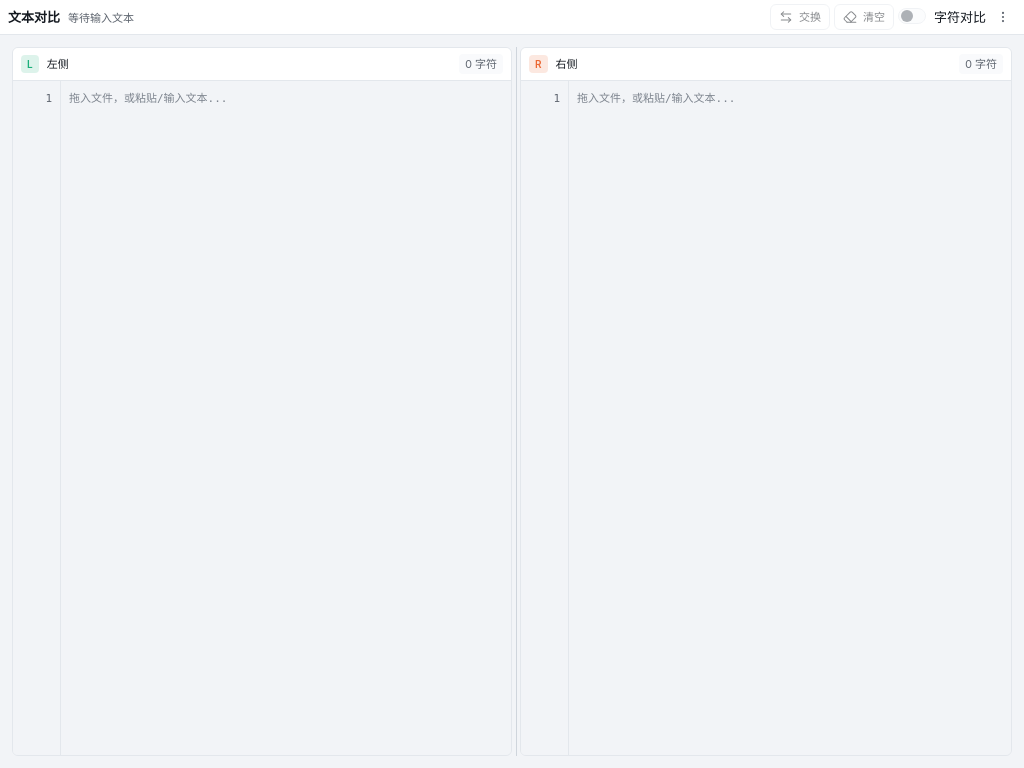
TextComparePage 工具栏（§4.5） › 标题恒在，高频三件套留在栏上，其余降到 ⋯
The image size is (1024, 768).
expect the heading "文本对比" is shown: met, box [8,8,60,26]
expect the button "交换" is shown: met, box [770,4,830,30]
Step 1. Click the button named "更多操作" → (1003, 17), box [990,4,1016,30]
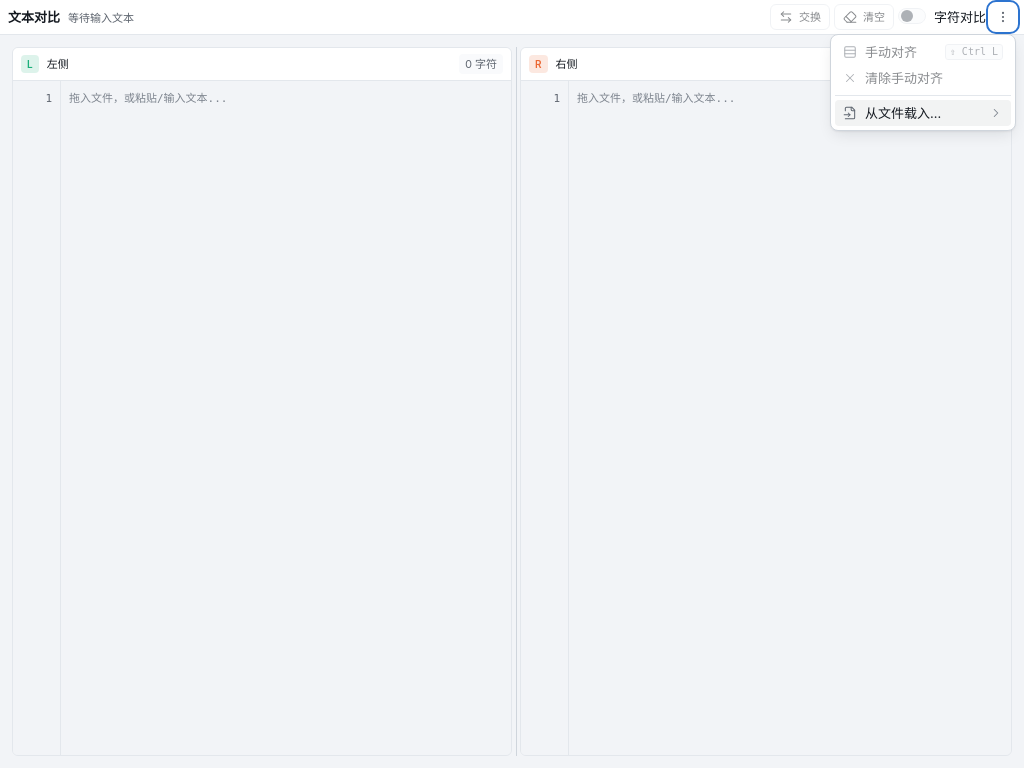
expect the menu is shown: met, box [835,39,1011,126]
expect the menu item "手动对齐 ⇧ Ctrl L" is shown: met, box [835,39,1011,65]
expect the menu item "清除手动对齐" is shown: met, box [835,65,1011,91]
